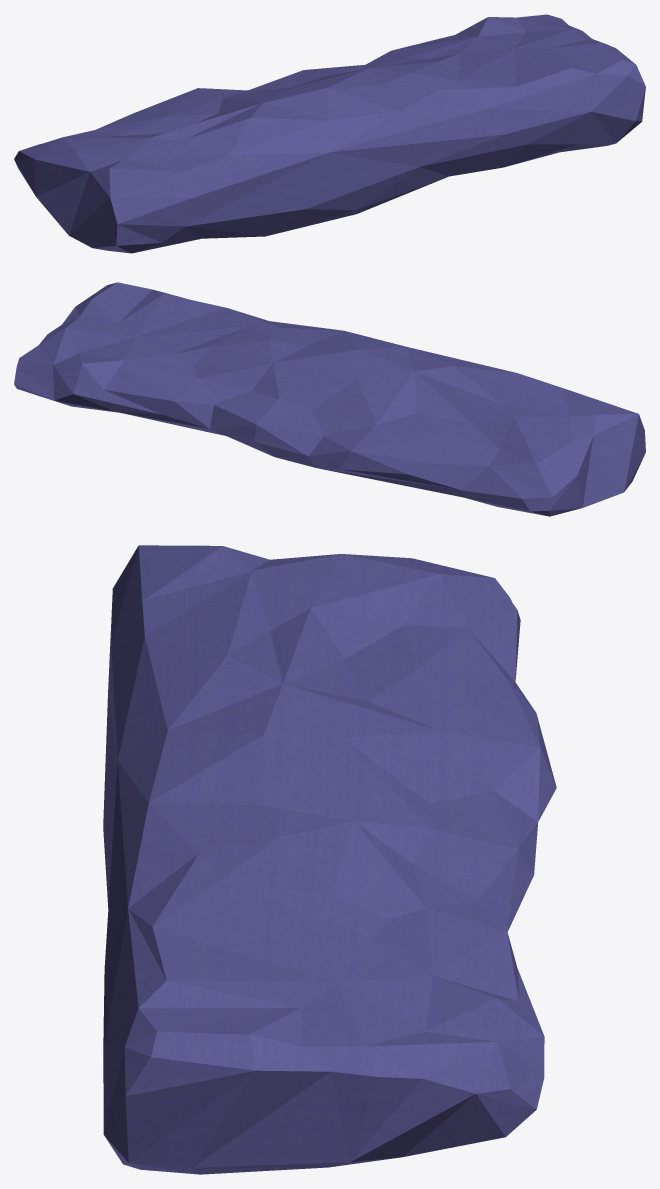
File: Elder_IceWall4P4.fbx
3 views of the same model, one above another, from view 1: azimuth 30°, elevation 25°; view 2: azimuth 150°, elevation 25°; view 3: azimuth 270°, elevation 25° (orthographic). The views are drawn at different scales.
Visible parts, largest first — view 1: Elder_IceWall4P4; view 2: Elder_IceWall4P4; view 3: Elder_IceWall4P4.
Boxes of the visible parts, <box> form: Elder_IceWall4P4: <box>14,14,645,253</box>; Elder_IceWall4P4: <box>14,282,645,516</box>; Elder_IceWall4P4: <box>103,545,556,1174</box>.
Bounding box in the file's own units: 1425 × 260 × 510.
Materials: 1 (1 with a texture image).
